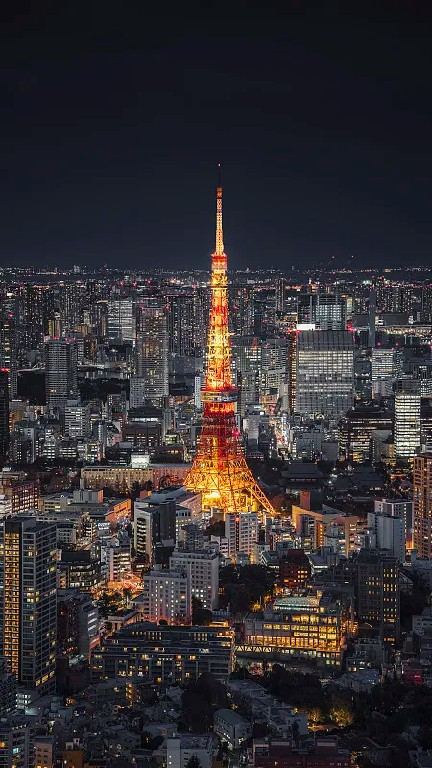Tokyo: (175, 156, 279, 519)
